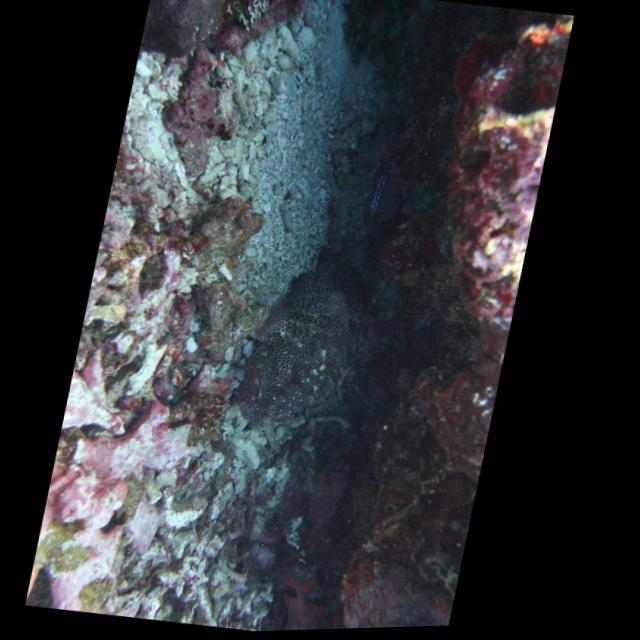Groupers: (229, 238, 380, 439)
